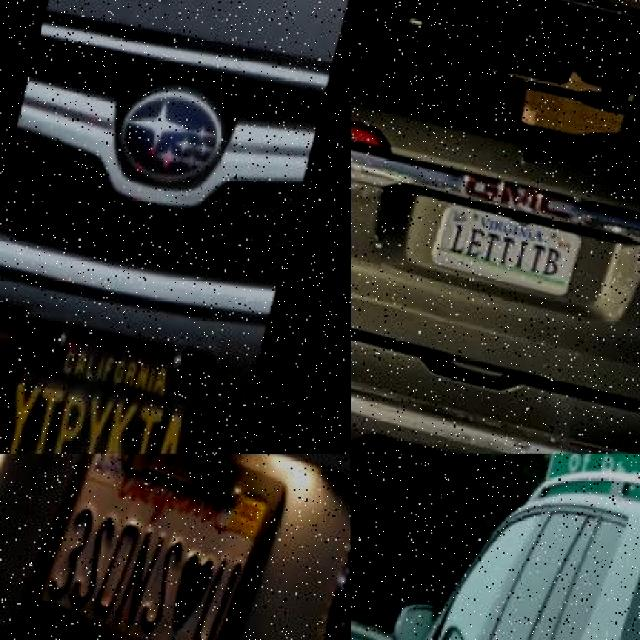licenseplate: (5, 454, 274, 640), (0, 306, 209, 454), (427, 205, 581, 298)
